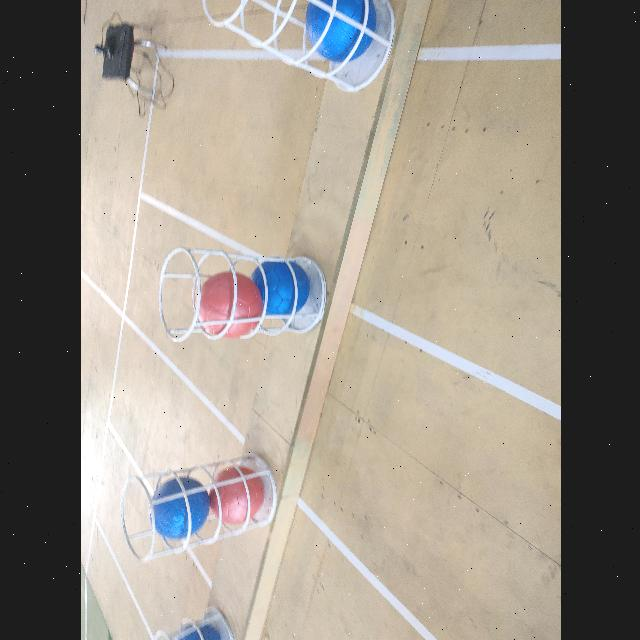B: (304, 1, 374, 64), (148, 478, 210, 540), (252, 257, 308, 319), (175, 622, 221, 640)
R: (195, 272, 262, 336), (209, 466, 263, 524)
